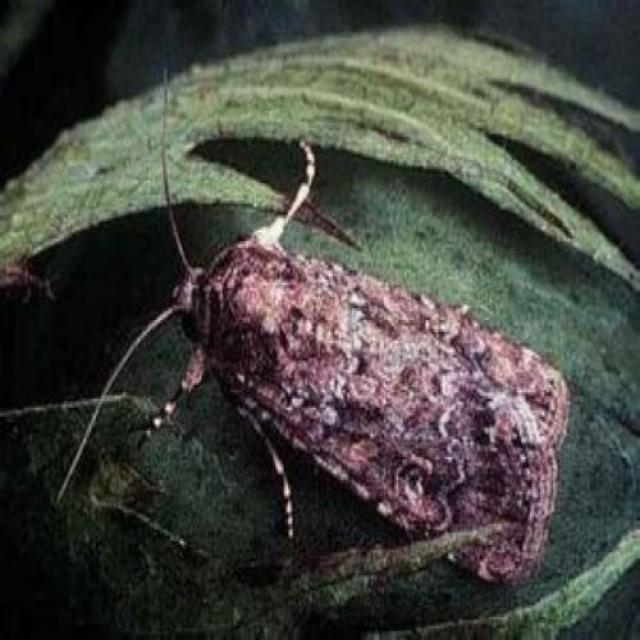armyworm: (155, 170, 585, 616)
